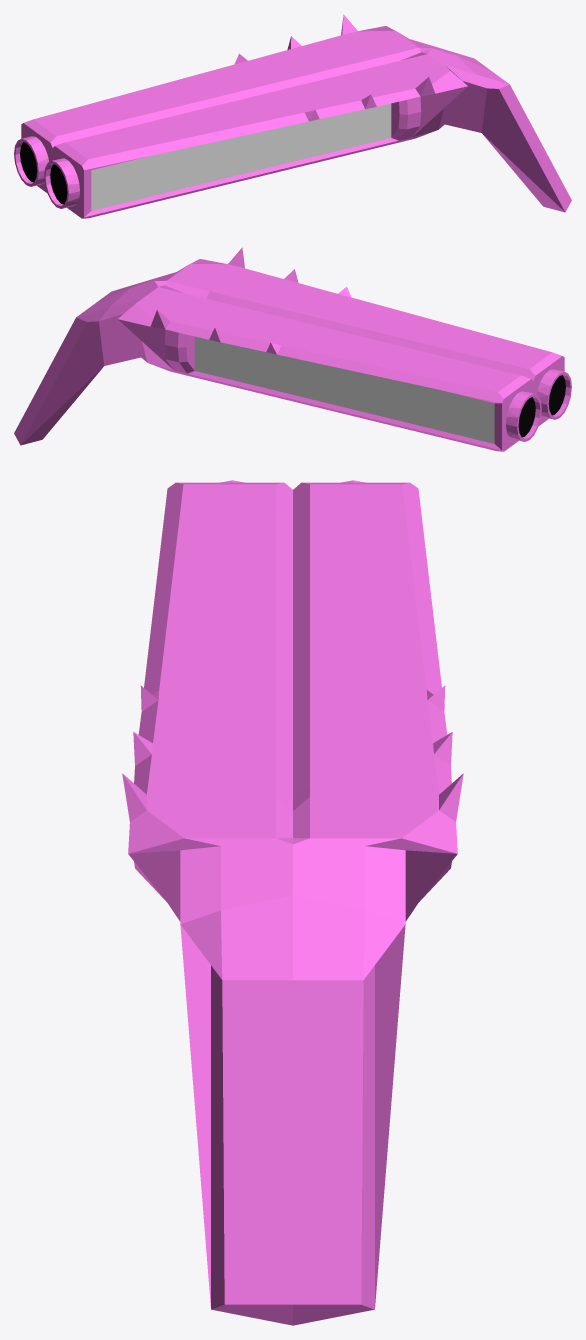
3 renders of one model, top to bottom at view 1: azimuth 30°, elevation 25°; view 2: azimuth 150°, elevation 25°; view 3: azimuth 270°, elevation 25°, orthographic. The views are drawn at different scales.
Visible parts, largest first — view 1: Cube, Cube.001, Cube.002; view 2: Cube, Cube.001, Cube.002; view 3: Cube.
Part boxes in pixels (x1,y1,x2,y2): Cube: (14, 14, 571, 218); Cube.001: (91, 103, 391, 210); Cube.002: (20, 142, 67, 204); Cube: (14, 247, 571, 451); Cube.001: (194, 336, 494, 443); Cube.002: (518, 375, 565, 437); Cube: (122, 480, 463, 1325).
Size of the model in its own units: 208 by 77.19 by 59.86.
